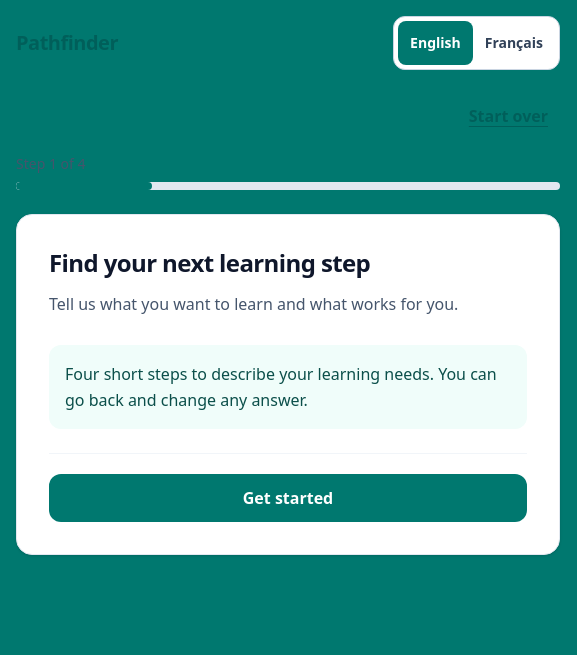
keeps the language change usable and reports a failed preference write
Step 1. Click the button "Français" → (514, 43), box [473,21,555,65]
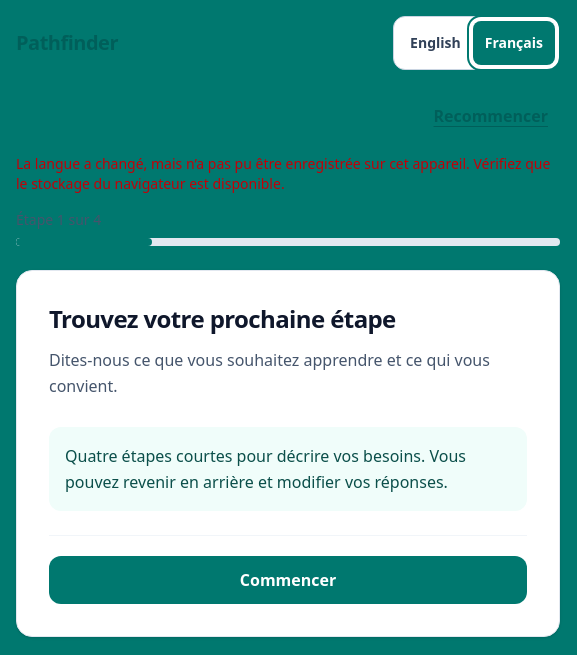
Result: the message shows "La langue a changé, mais n’a pas pu être enregistrée sur cet appareil. Vérifiez que le stockage du navigateur est disponible." at [16,154,550,193]
